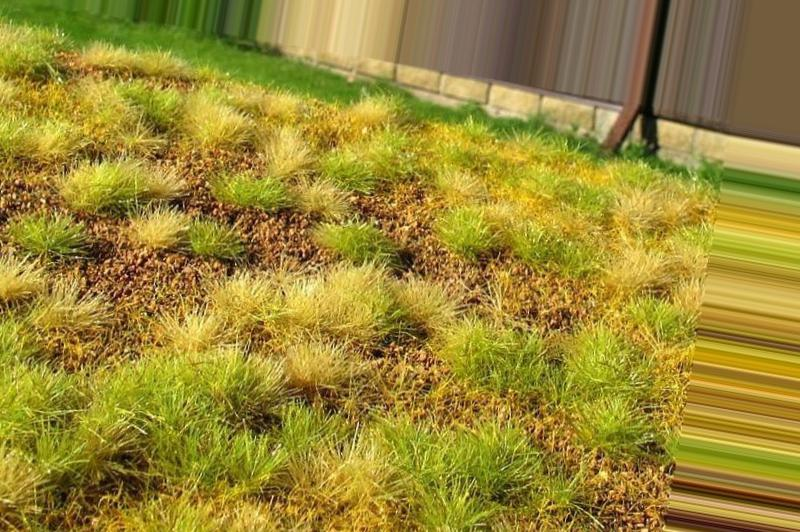patch: (4, 54, 661, 530)
